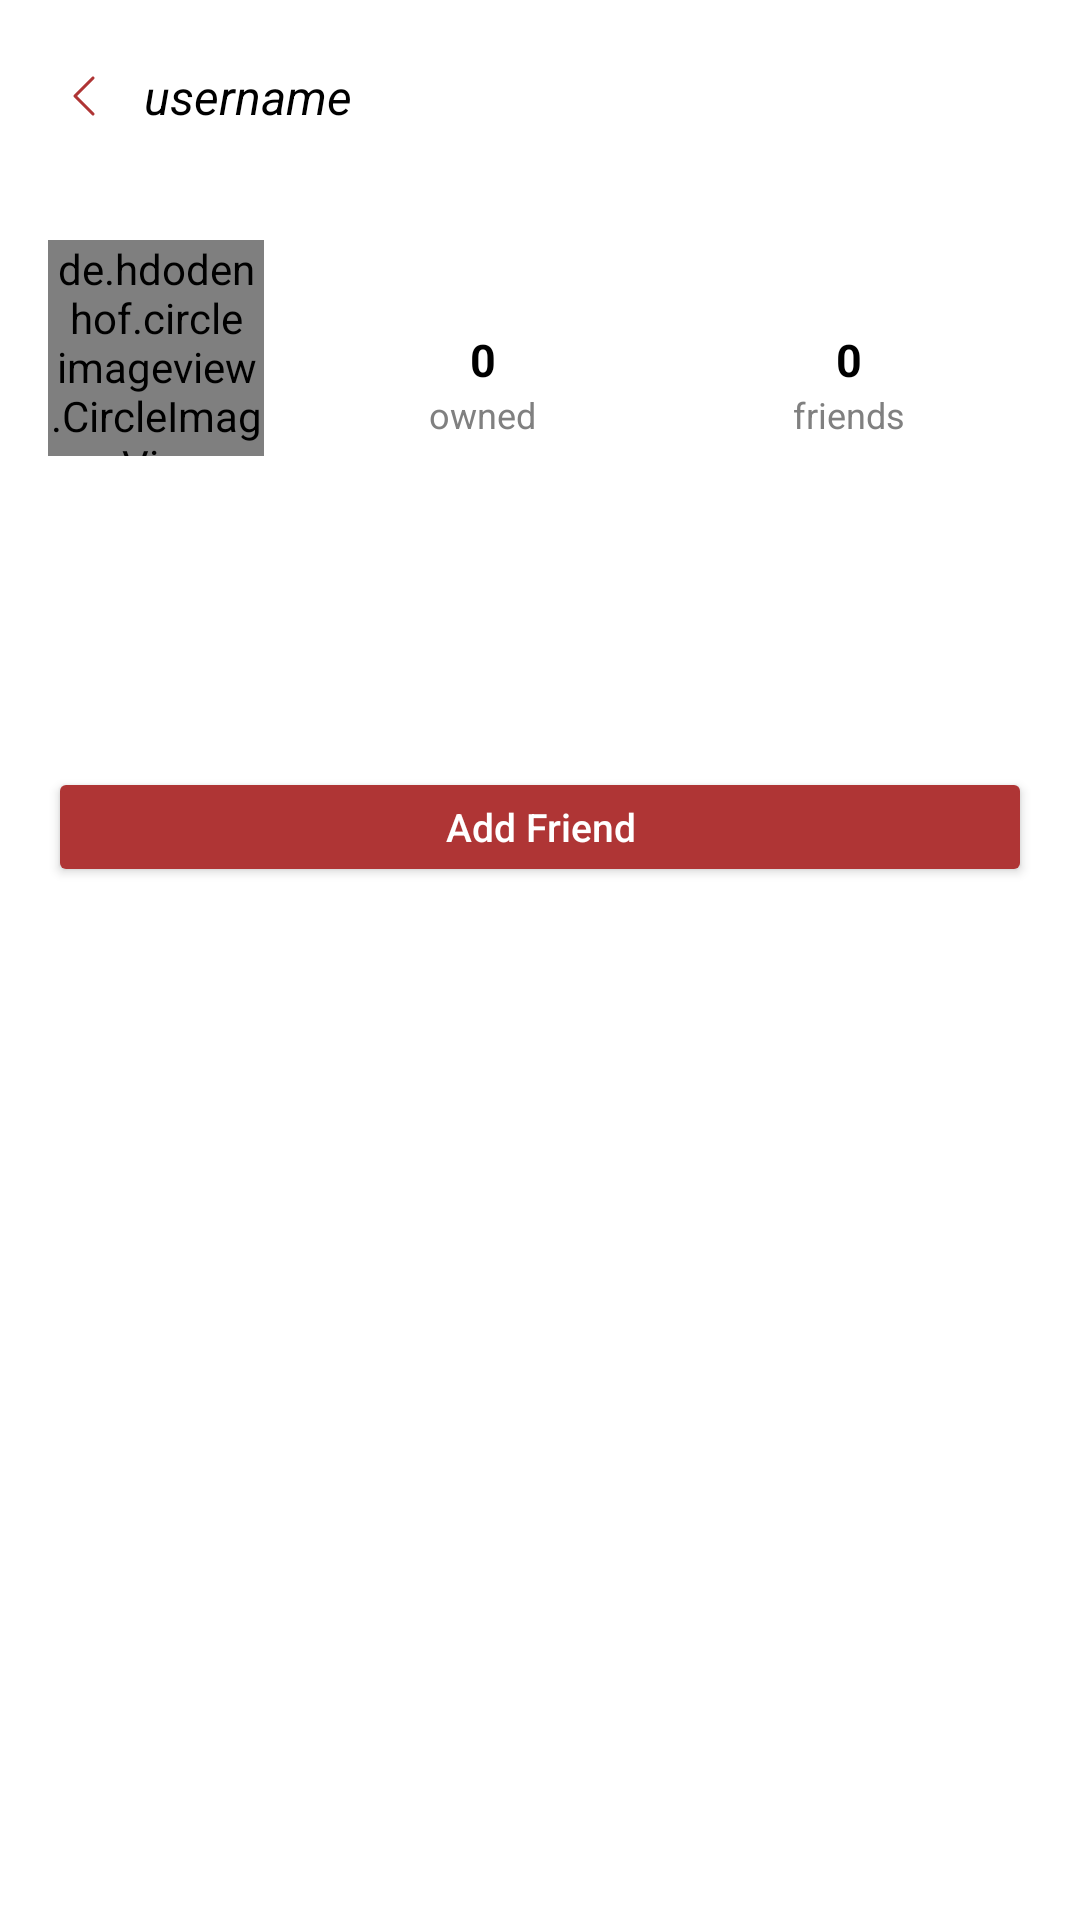

Point at icon controls on the screen. Image size 1080x1920, points as (x=x, y=y).
Back: (x=84, y=96)
